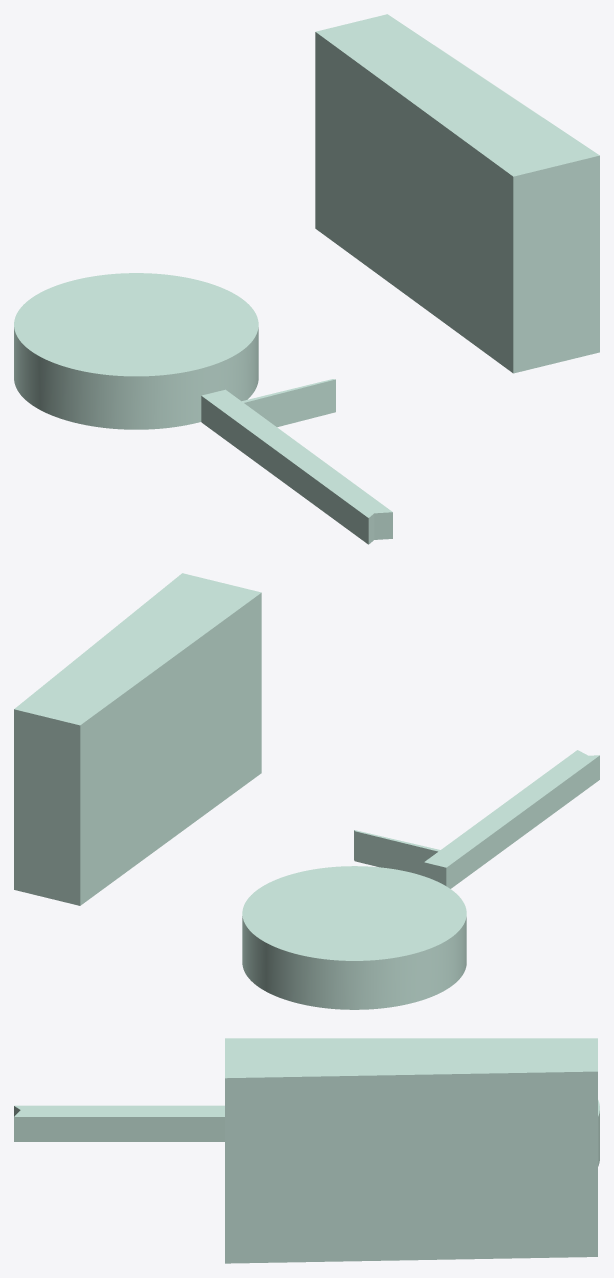
3 views of the same model, one above another, from view 1: azimuth 30°, elevation 25°; view 2: azimuth 150°, elevation 25°; view 3: azimuth 270°, elevation 25° (orthographic). The views are drawn at different scales.
Parts seen in each view (by area): view 1: Renderer Node; view 2: Renderer Node; view 3: Renderer Node.
Boxes of the visible parts, x1,y1,x2,y2 form: Renderer Node: [14, 14, 599, 544]; Renderer Node: [14, 573, 599, 1009]; Renderer Node: [14, 1038, 599, 1263].
Bounding box in the file's own units: 1.72 × 0.9375 × 2.15.
